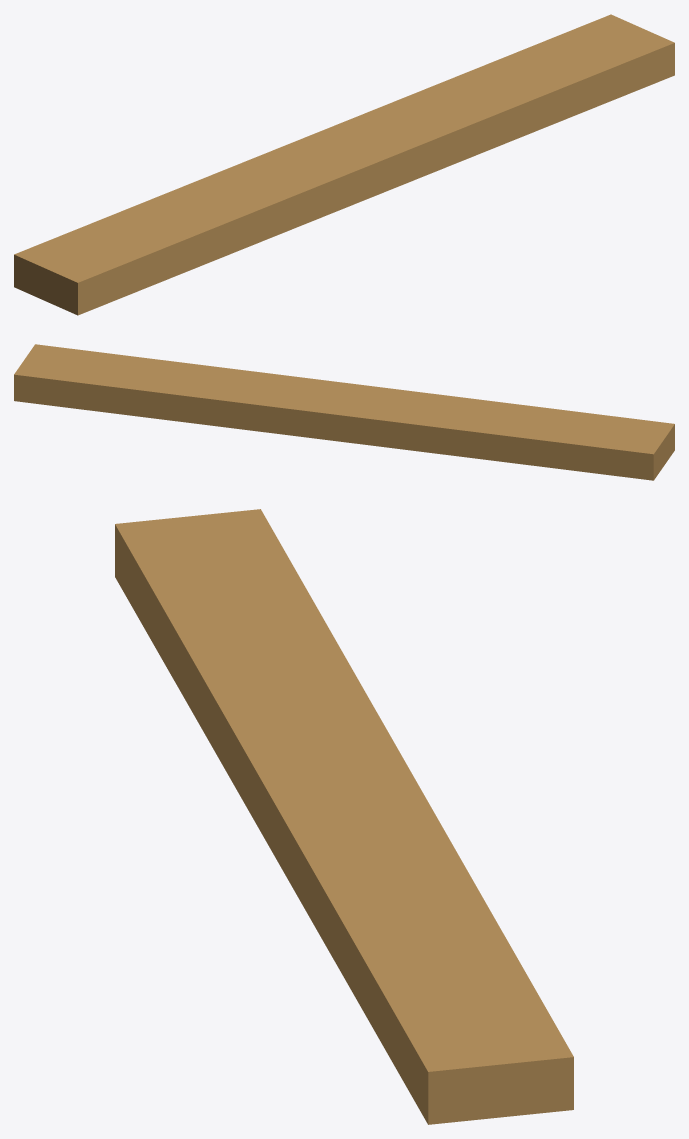
3 renders of one model, top to bottom at view 1: azimuth 30°, elevation 25°; view 2: azimuth 150°, elevation 25°; view 3: azimuth 270°, elevation 25°, orthographic. The views are drawn at different scales.
Visible parts, largest first — view 1: RUN-018-S01-ribbon; view 2: RUN-018-S01-ribbon; view 3: RUN-018-S01-ribbon.
Boxes of the visible parts, x1,y1,x2,y2 form: RUN-018-S01-ribbon: (14,14,674,315); RUN-018-S01-ribbon: (14,344,674,480); RUN-018-S01-ribbon: (115,509,573,1124).
Size of the model in its own units: 0.7988 by 0.035 by 0.2753.
